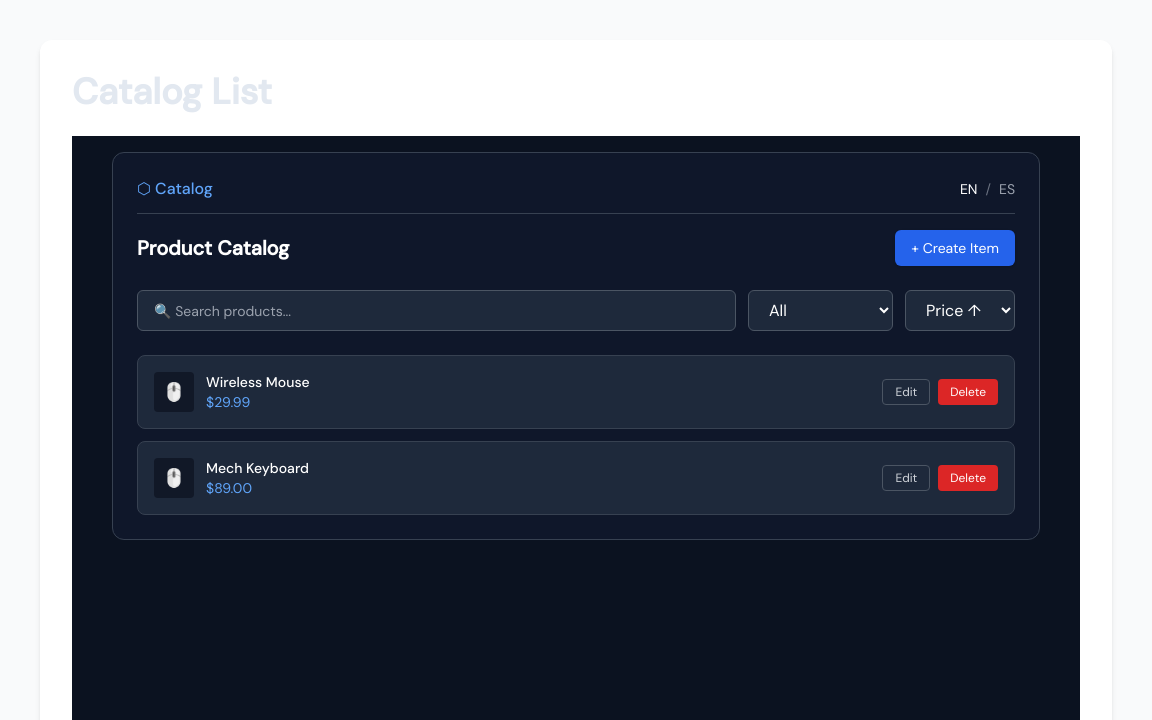
Scenario: Week1CatalogPage › filters products without API refetch
Expected: the heading "Wireless Mouse" is shown, [206,372,310,392]
Type "keyboard" into the field with placeholder "🔍 Search products..." at (436, 310), box [137,290,736,331]
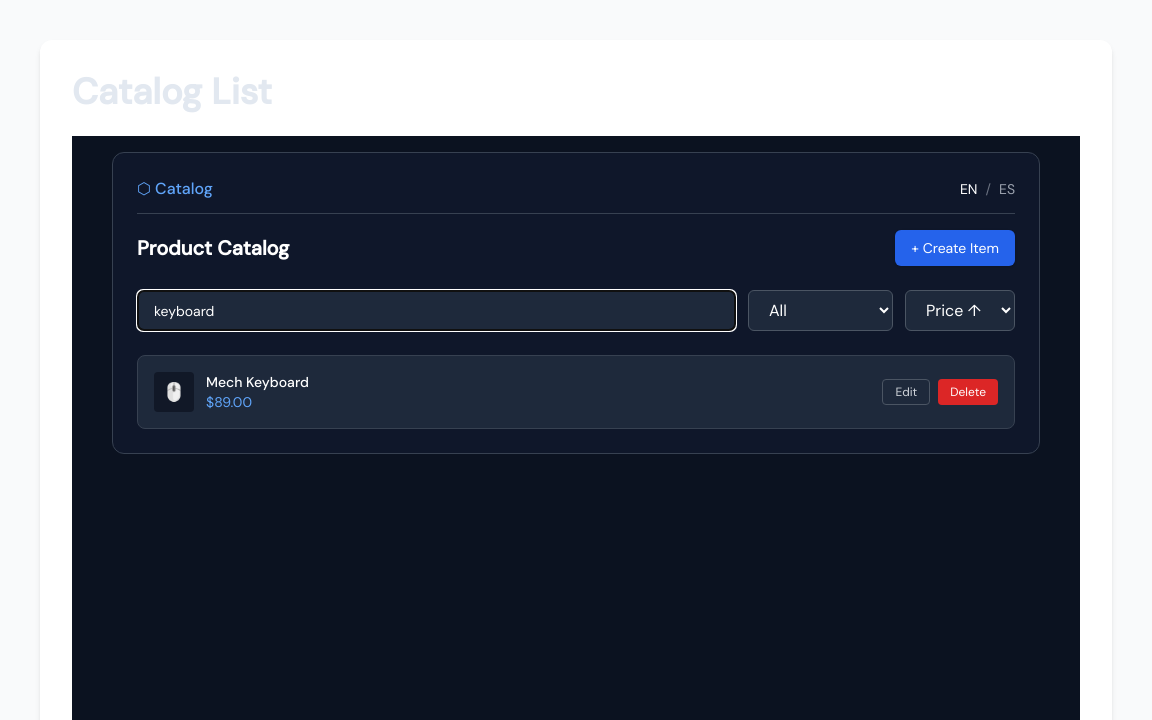
Result: the heading "Wireless Mouse" is gone
